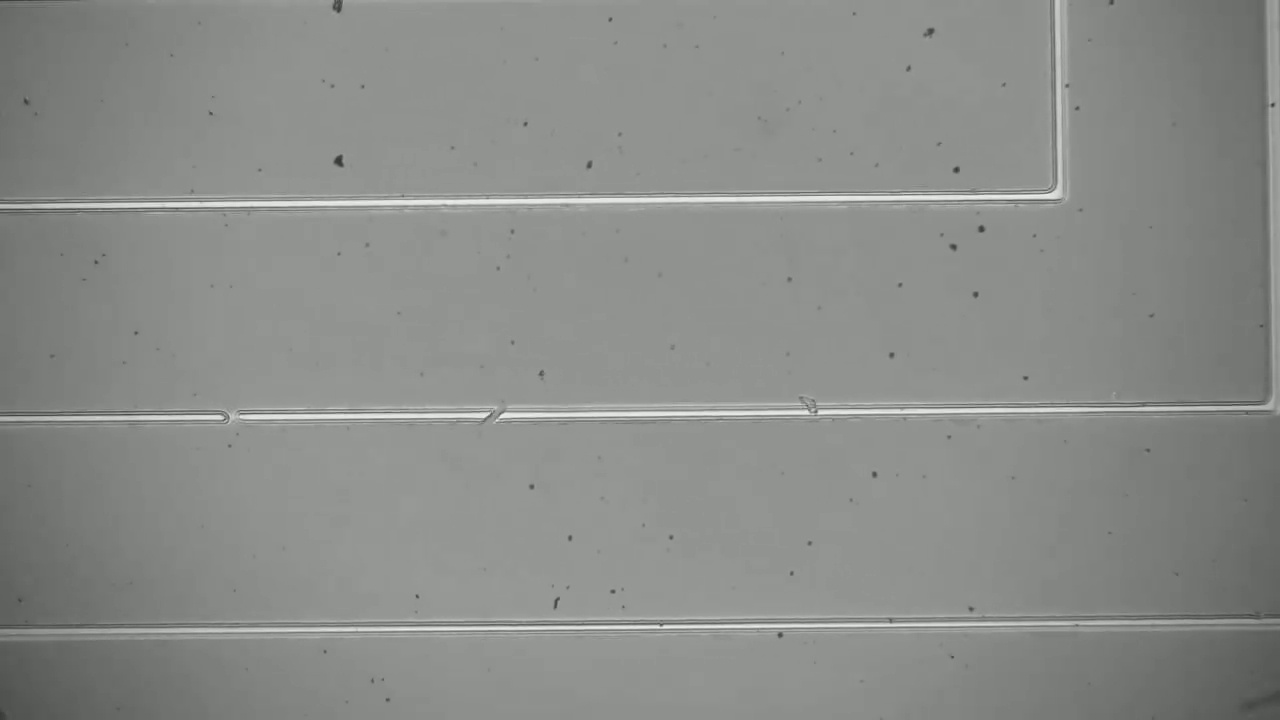open: (465, 393, 517, 444), (208, 400, 249, 438)
stains_enbedded: (786, 385, 835, 428)
